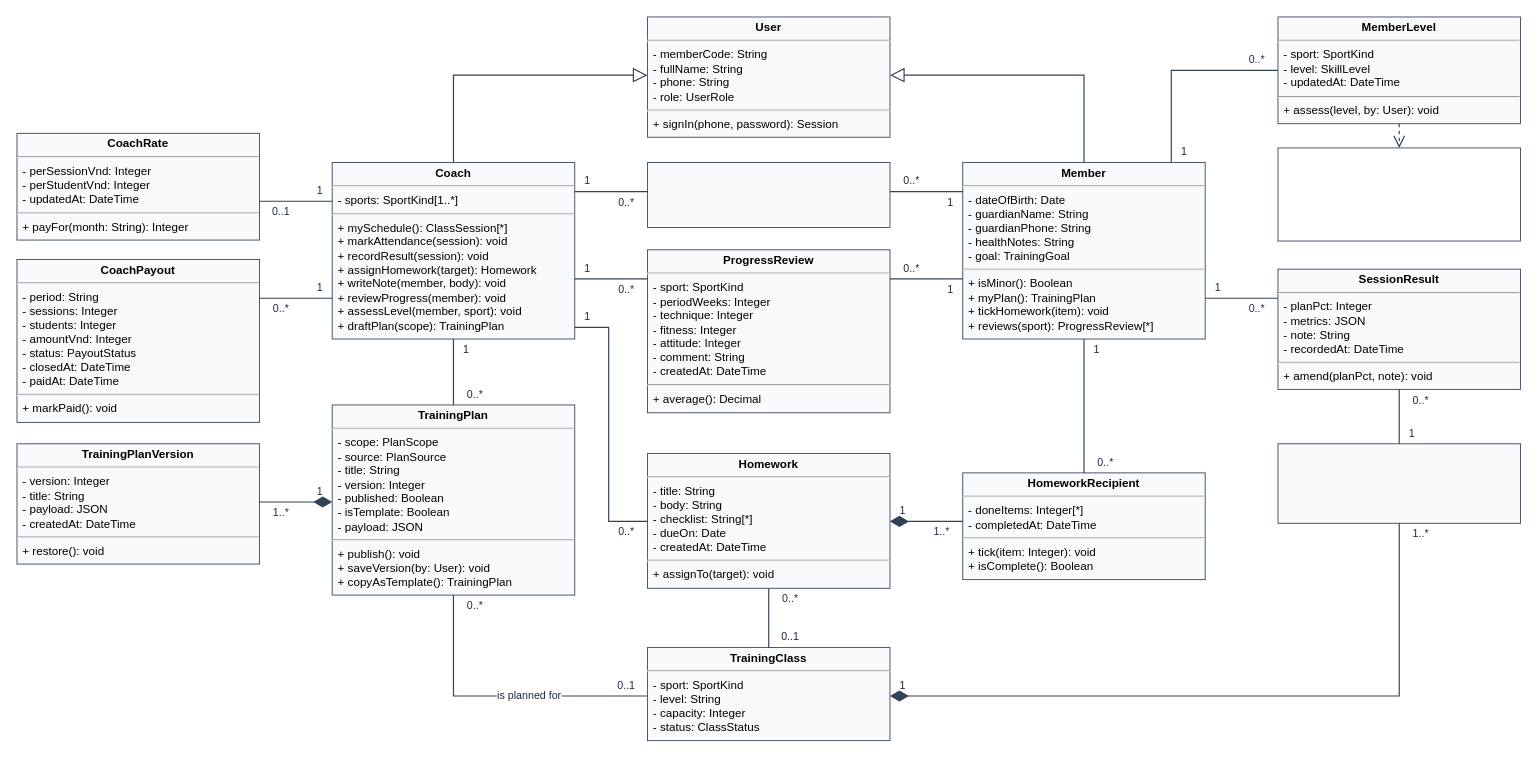
This 1537x758 diagram has some shape labels left out. The shapes that lost their labels are listed below. From the top down, each one's centre as x and y in pixels, then its label:
At (x=768, y=194): "CoachNote - body: String - createdAt: DateTime".
At (x=1398, y=194): "«enumeration» SkillLevel beginner intermediate advanced".
At (x=1398, y=483): "ClassSession - startAt: DateTime - endAt: DateTime - status: SessionStatus".
